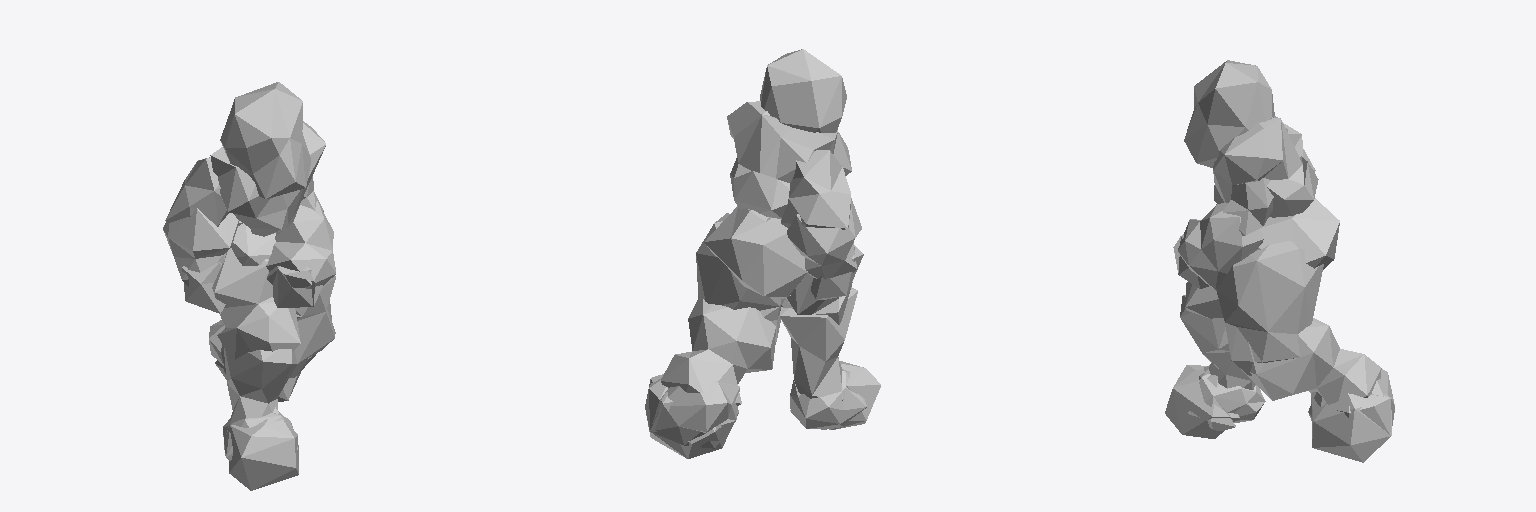
The model's file is dance_frames0370.obj.
3 views of the same model, side by side, from view 1: azimuth 30°, elevation 25°; view 2: azimuth 150°, elevation 25°; view 3: azimuth 270°, elevation 25° (orthographic).
Parts seen in each view (by area): view 1: Beta_Surface; view 2: Beta_Surface; view 3: Beta_Surface.
Boxes of the visible parts, x1,y1,x2,y2 form: Beta_Surface: [163, 82, 335, 490]; Beta_Surface: [645, 49, 880, 458]; Beta_Surface: [1165, 60, 1394, 462].
Size of the model in its own units: 0.9429 by 1.94 by 1.07.